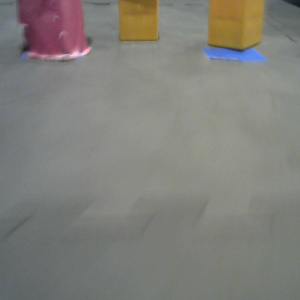middle: (17, 1, 92, 60)
